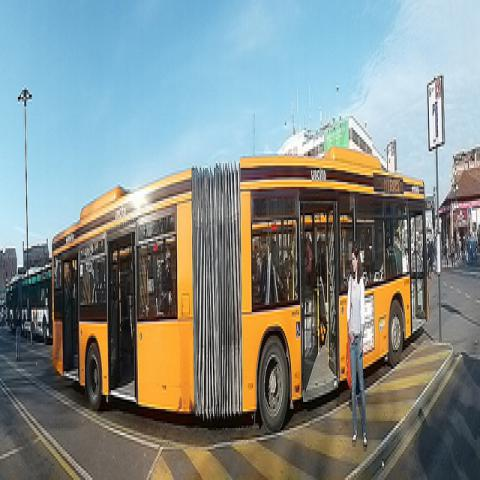bus: (52, 146, 430, 433), (21, 262, 52, 345)
